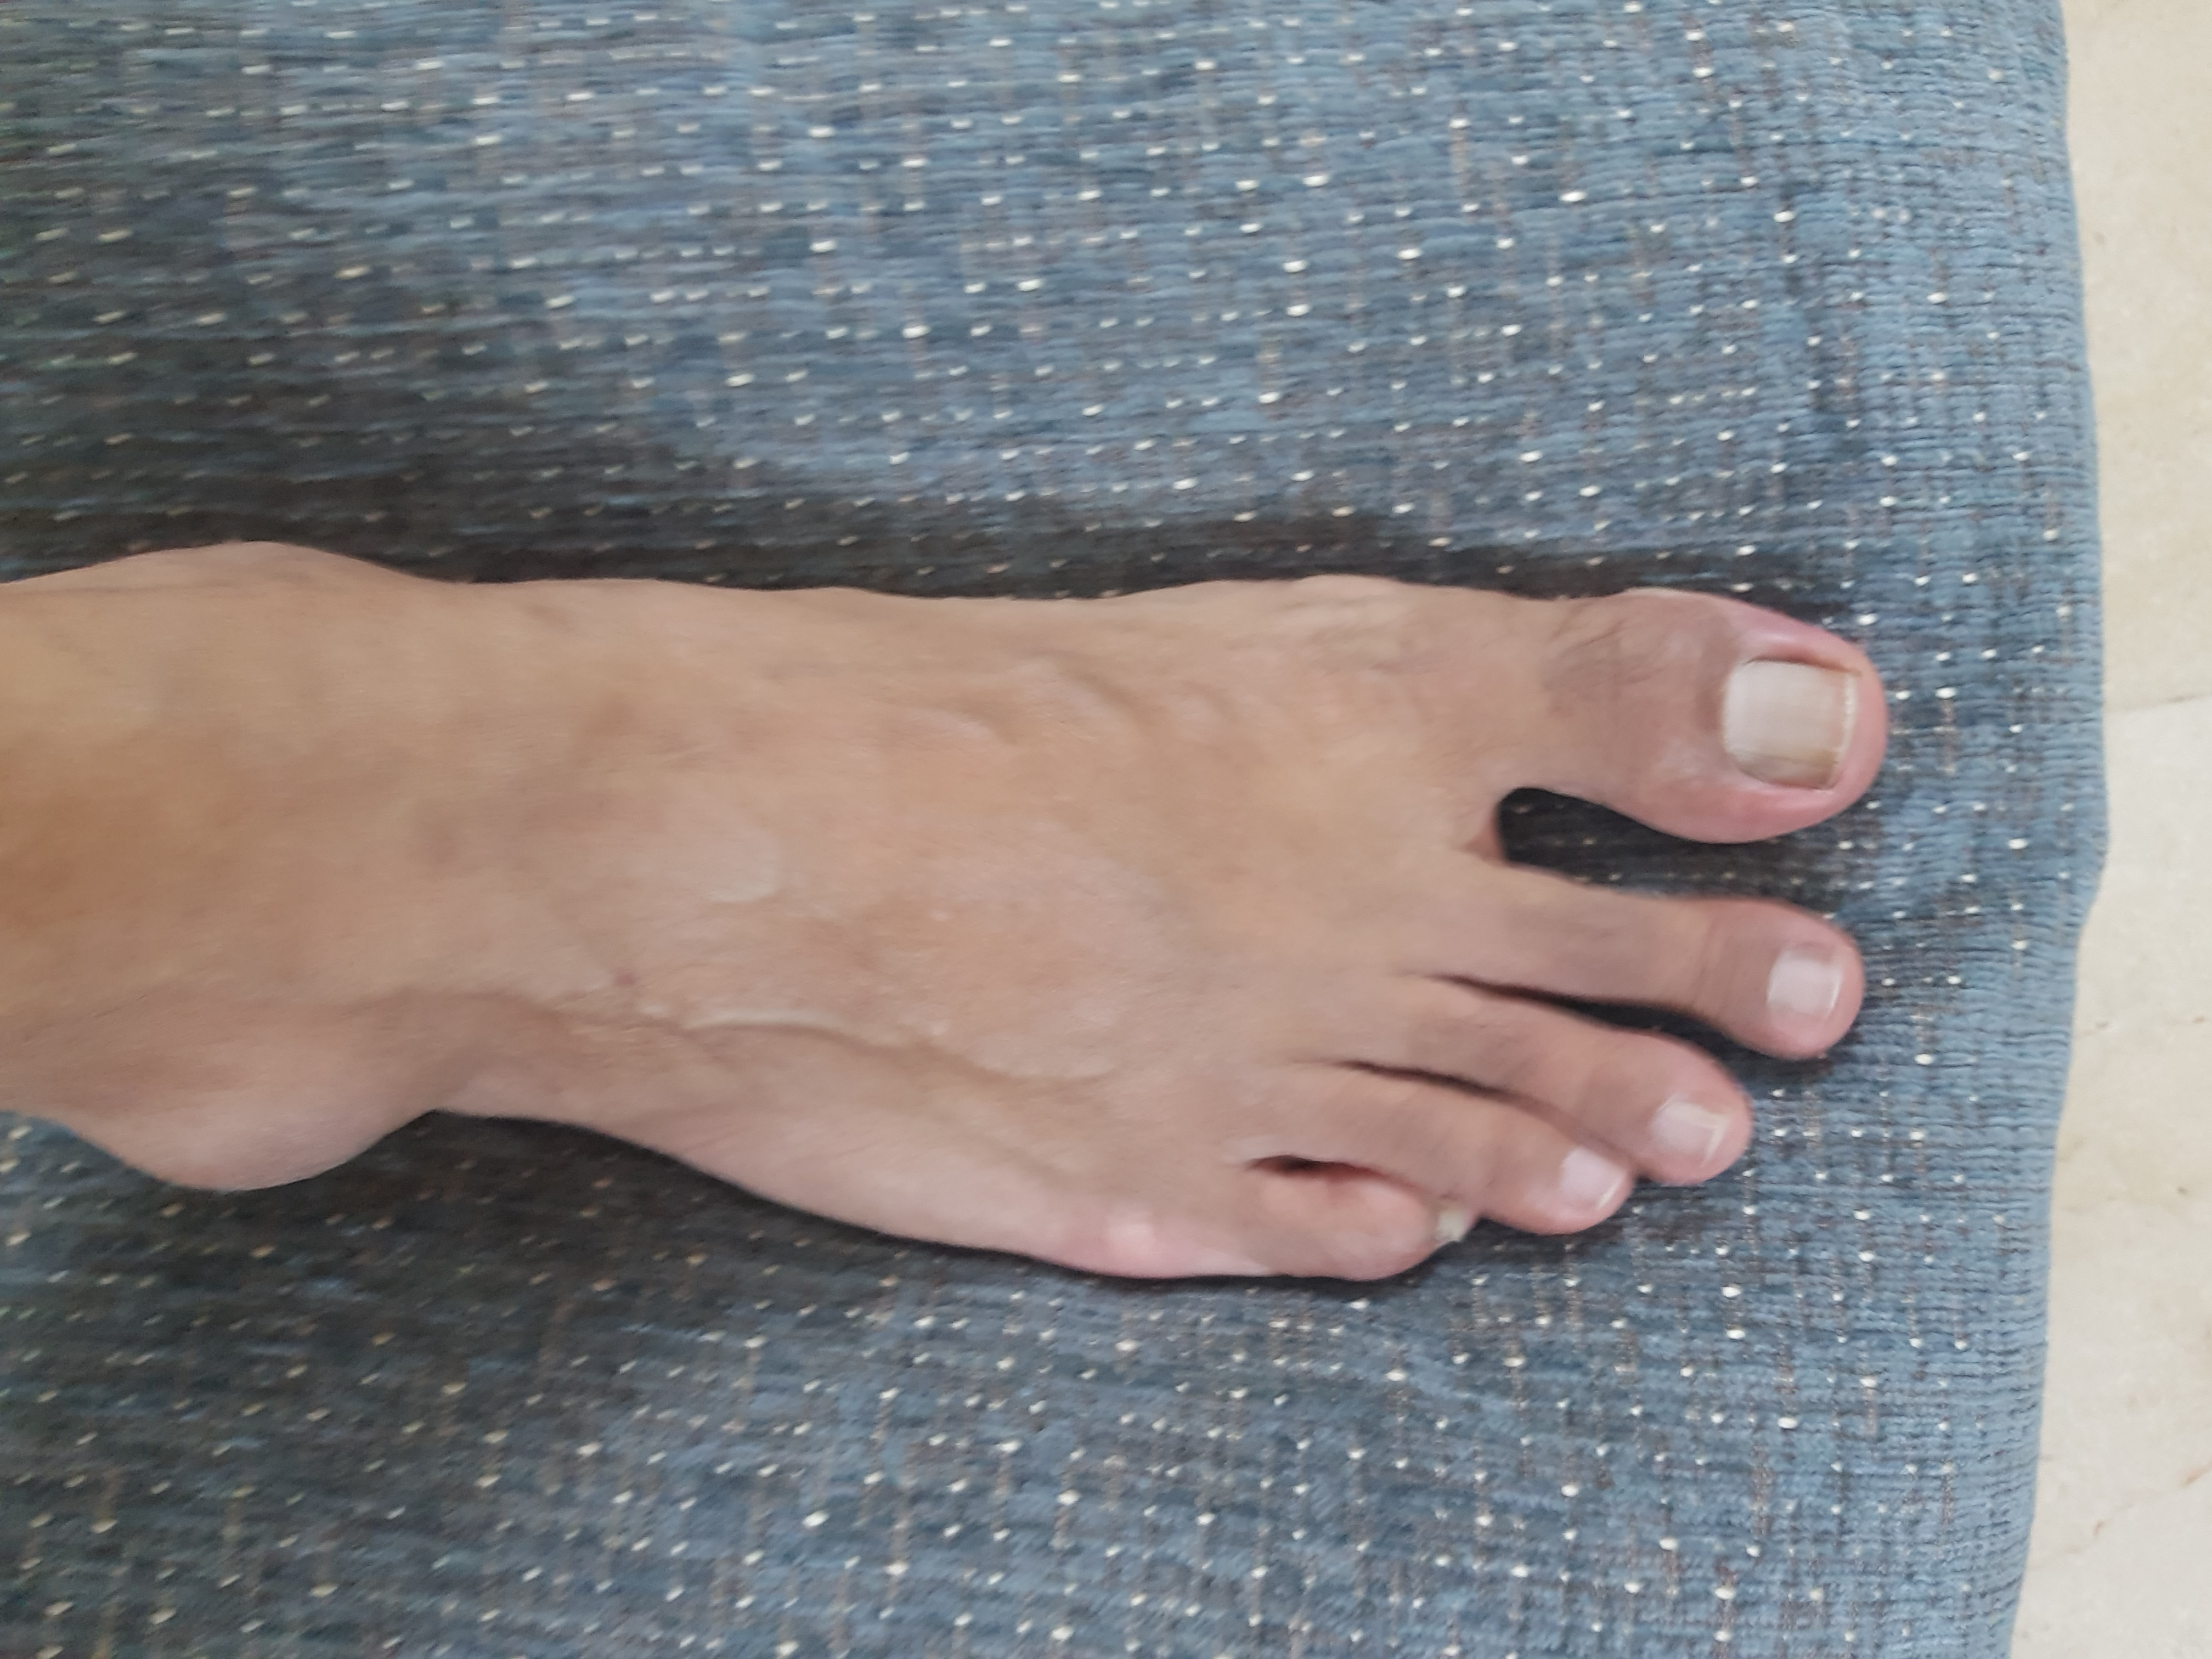feet: (42, 429, 1932, 1335)
